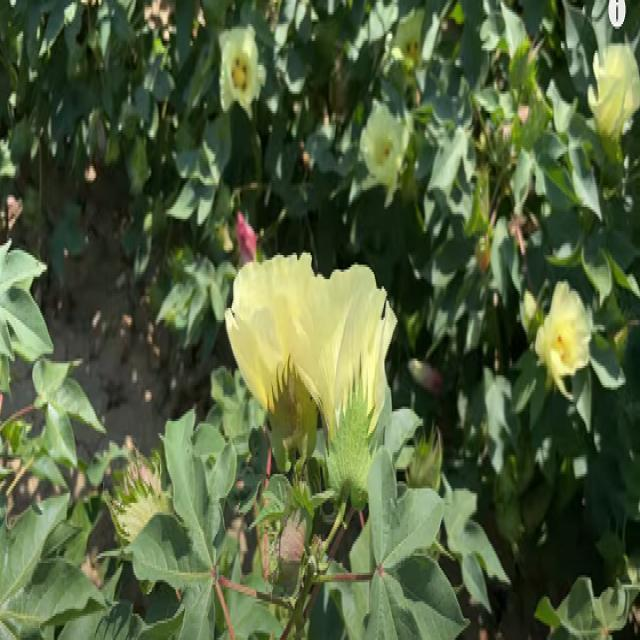Cotton Blossom: (297, 262, 398, 509), (225, 252, 319, 468), (531, 273, 597, 405), (587, 31, 639, 163), (354, 84, 415, 196), (212, 15, 273, 117), (234, 205, 256, 260)
Cotton Bud: (97, 477, 169, 560)
